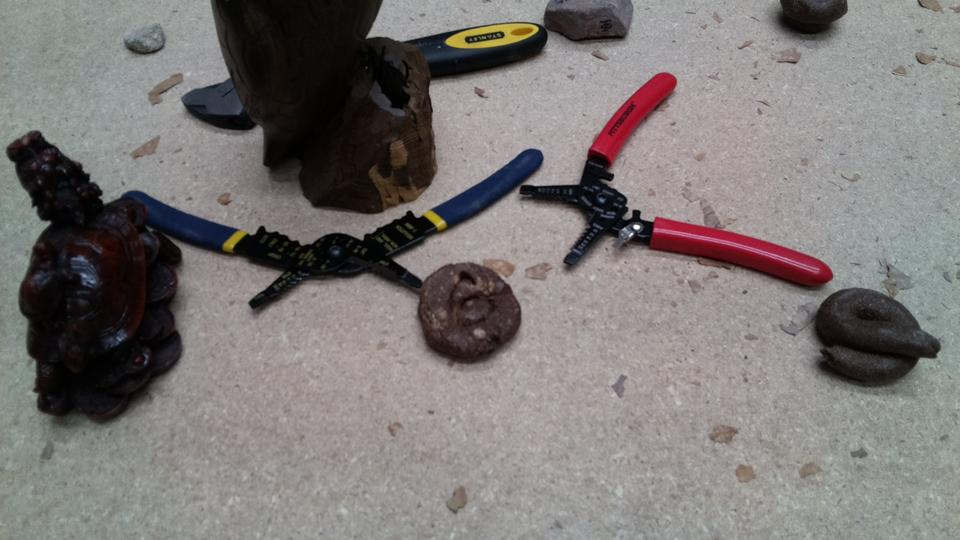poop: (812, 282, 941, 389), (414, 258, 525, 367), (777, 1, 849, 35)
